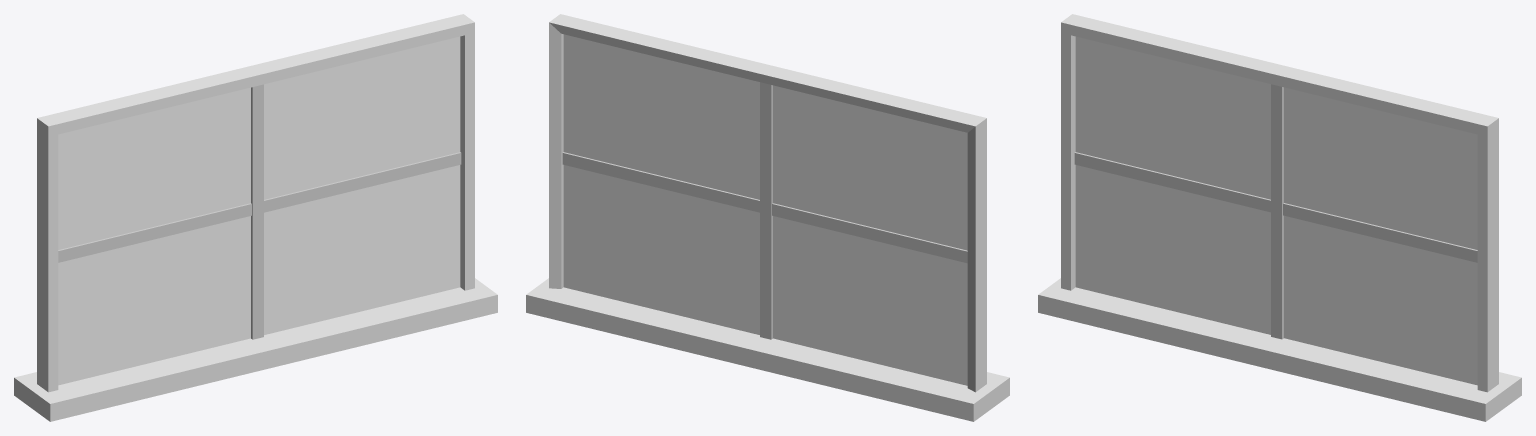
File: window_014.fbx
3 views of the same model, side by side, from view 1: azimuth 30°, elevation 25°; view 2: azimuth 150°, elevation 25°; view 3: azimuth 330°, elevation 25° (orthographic).
Visible parts, largest first — view 1: window_014; view 2: window_014; view 3: window_014.
Part boxes in pixels (left/top/right/bottom): window_014: left=14, top=14, right=497, bottom=421; window_014: left=526, top=14, right=1009, bottom=421; window_014: left=1038, top=14, right=1521, bottom=421.
Size of the model in its own units: 305 by 42.75 by 185.
